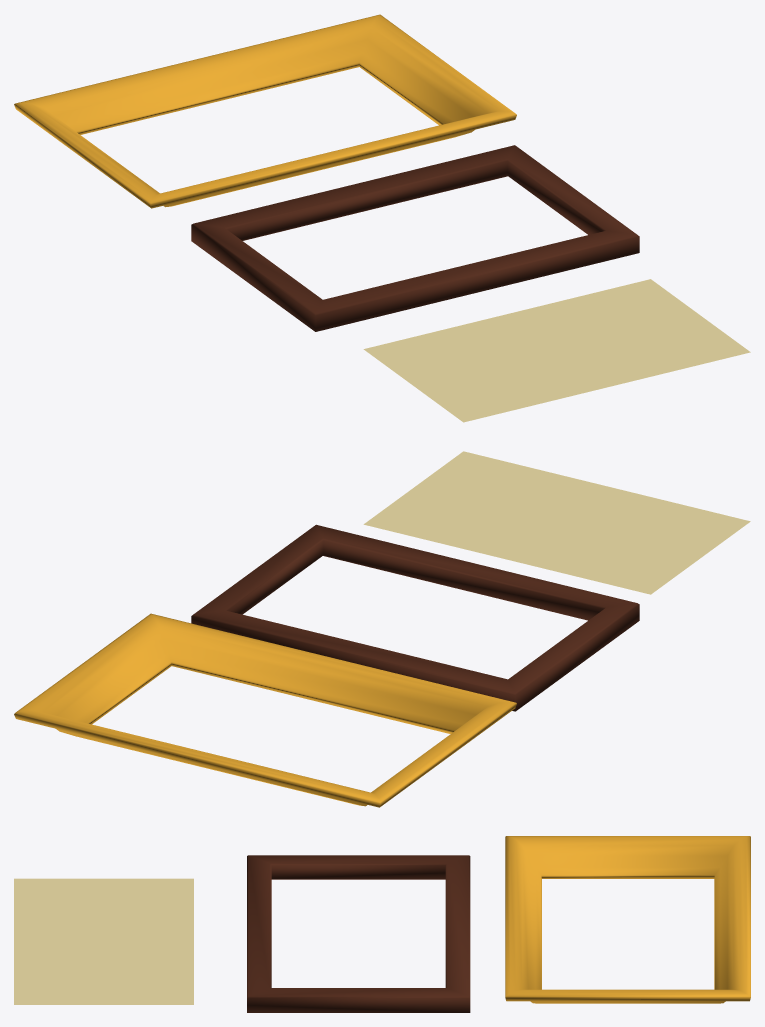
Rendered from Frames_layer_3D.fbx.
3 renders of one model, top to bottom at view 1: azimuth 30°, elevation 25°; view 2: azimuth 150°, elevation 25°; view 3: azimuth 270°, elevation 25°, orthographic. The views are drawn at different scales.
Visible parts, largest first — view 1: Frame_1, Layer, Frame_2; view 2: Frame_1, Layer, Frame_2; view 3: Layer, Frame_1, Frame_2.
Part boxes in pixels (<box>): Frame_1: <box>14,14,516,208</box>; Layer: <box>363,279,750,422</box>; Frame_2: <box>191,145,639,331</box>; Frame_1: <box>14,613,516,807</box>; Layer: <box>363,451,750,594</box>; Frame_2: <box>191,524,639,711</box>; Layer: <box>14,878,193,1004</box>; Frame_1: <box>505,836,750,1003</box>; Frame_2: <box>247,855,470,1012</box>.
Bounding box in the file's own units: 422 × 33.04 × 819.
